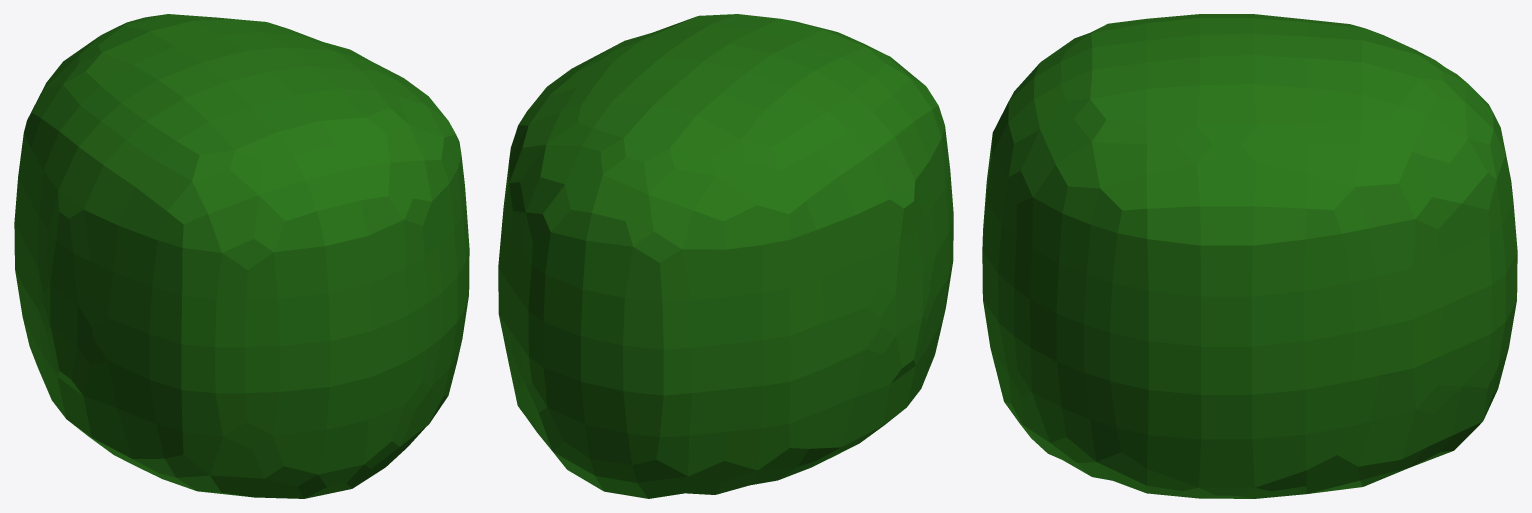
File: Buisson2.fbx
3 renders of one model, left to right at view 1: azimuth 30°, elevation 25°; view 2: azimuth 150°, elevation 25°; view 3: azimuth 270°, elevation 25°, orthographic. The views are drawn at different scales.
Visible parts, largest first — view 1: Cube; view 2: Cube; view 3: Cube.
Boxes of the visible parts, x1,y1,x2,y2 form: Cube: (14,14,469,498); Cube: (498,14,953,498); Cube: (982,14,1517,498).
Size of the model in its own units: 251 by 291 by 232.
